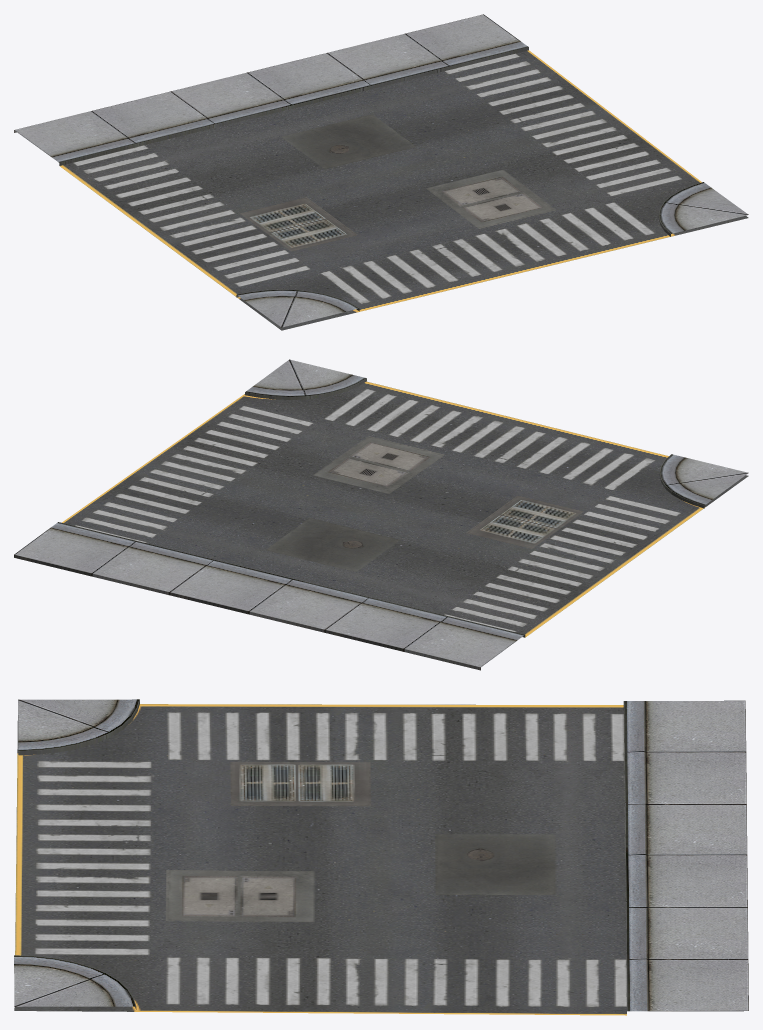
Rendered from road22.glb.
3 renders of one model, top to bottom at view 1: azimuth 30°, elevation 25°; view 2: azimuth 150°, elevation 25°; view 3: azimuth 270°, elevation 25°, orthographic. The views are drawn at different scales.
Visible parts, largest first — view 1: Road_T_Intersection_City_Intersection_mat_0.001; view 2: Road_T_Intersection_City_Intersection_mat_0.001; view 3: Road_T_Intersection_City_Intersection_mat_0.001.
Boxes of the visible parts, <box> form: Road_T_Intersection_City_Intersection_mat_0.001: <box>14,14,748,330</box>; Road_T_Intersection_City_Intersection_mat_0.001: <box>14,359,748,670</box>; Road_T_Intersection_City_Intersection_mat_0.001: <box>14,699,748,1015</box>.
Bounding box in the file's own units: 32.89 × 0.2045 × 32.76.
2 materials, 2 textured.
